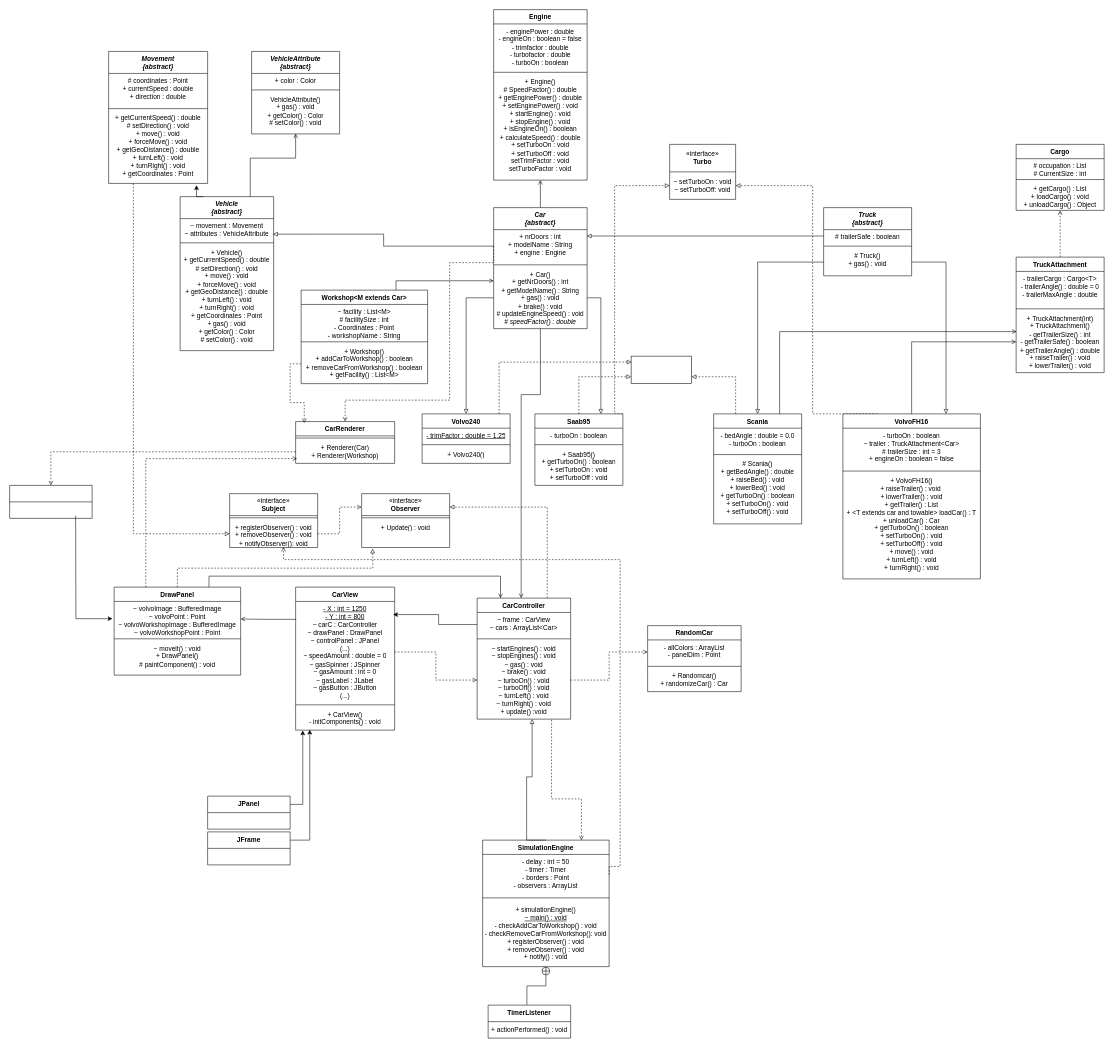
This 1114x1048 diagram has some shape labels left out. Here are the shapes that lost their labels. From the top down, the centre of each, then its label:
the point at 661,370: «interface» Towable
the point at 50,501: Graphics
